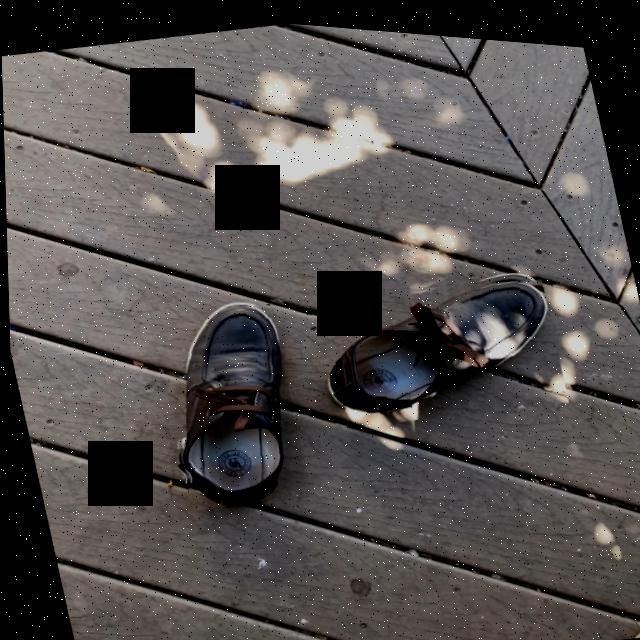shoe: (325, 271, 548, 416), (178, 302, 283, 503)
